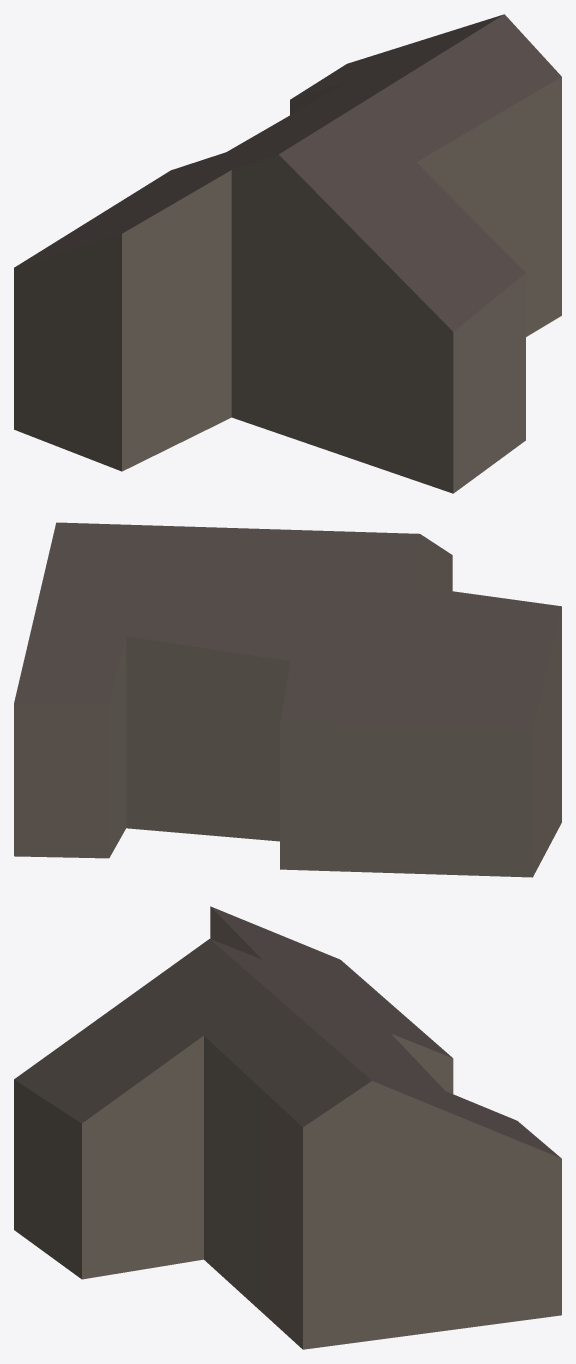
The picture shows the model from 3 angles, top to bottom: view 1: azimuth 30°, elevation 25°; view 2: azimuth 150°, elevation 25°; view 3: azimuth 270°, elevation 25°; orthographic projection. The views are drawn at different scales.
Parts seen in each view (by area): view 1: HP-w1513026721; view 2: HP-w1513026721; view 3: HP-w1513026721.
Part boxes in pixels (x1,y1,x2,y2): HP-w1513026721: [14, 14, 561, 493]; HP-w1513026721: [14, 522, 561, 877]; HP-w1513026721: [14, 906, 561, 1349].
Size of the model in its own units: 30.71 by 15.53 by 29.69.
